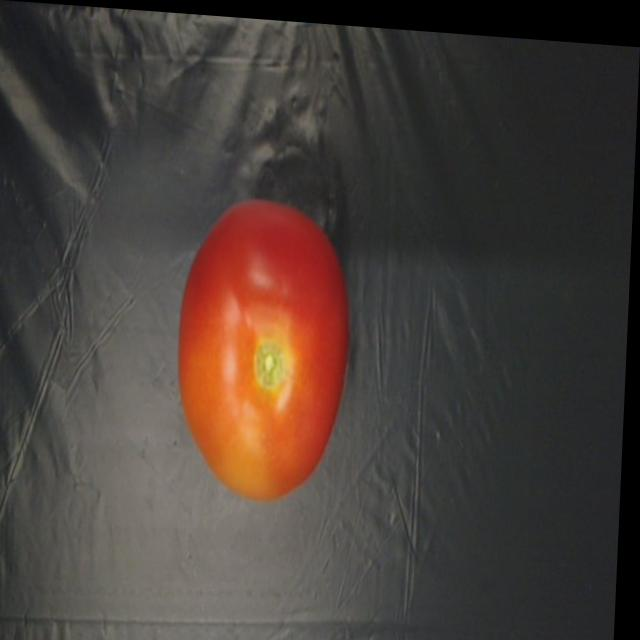sari: (154, 164, 359, 536)
